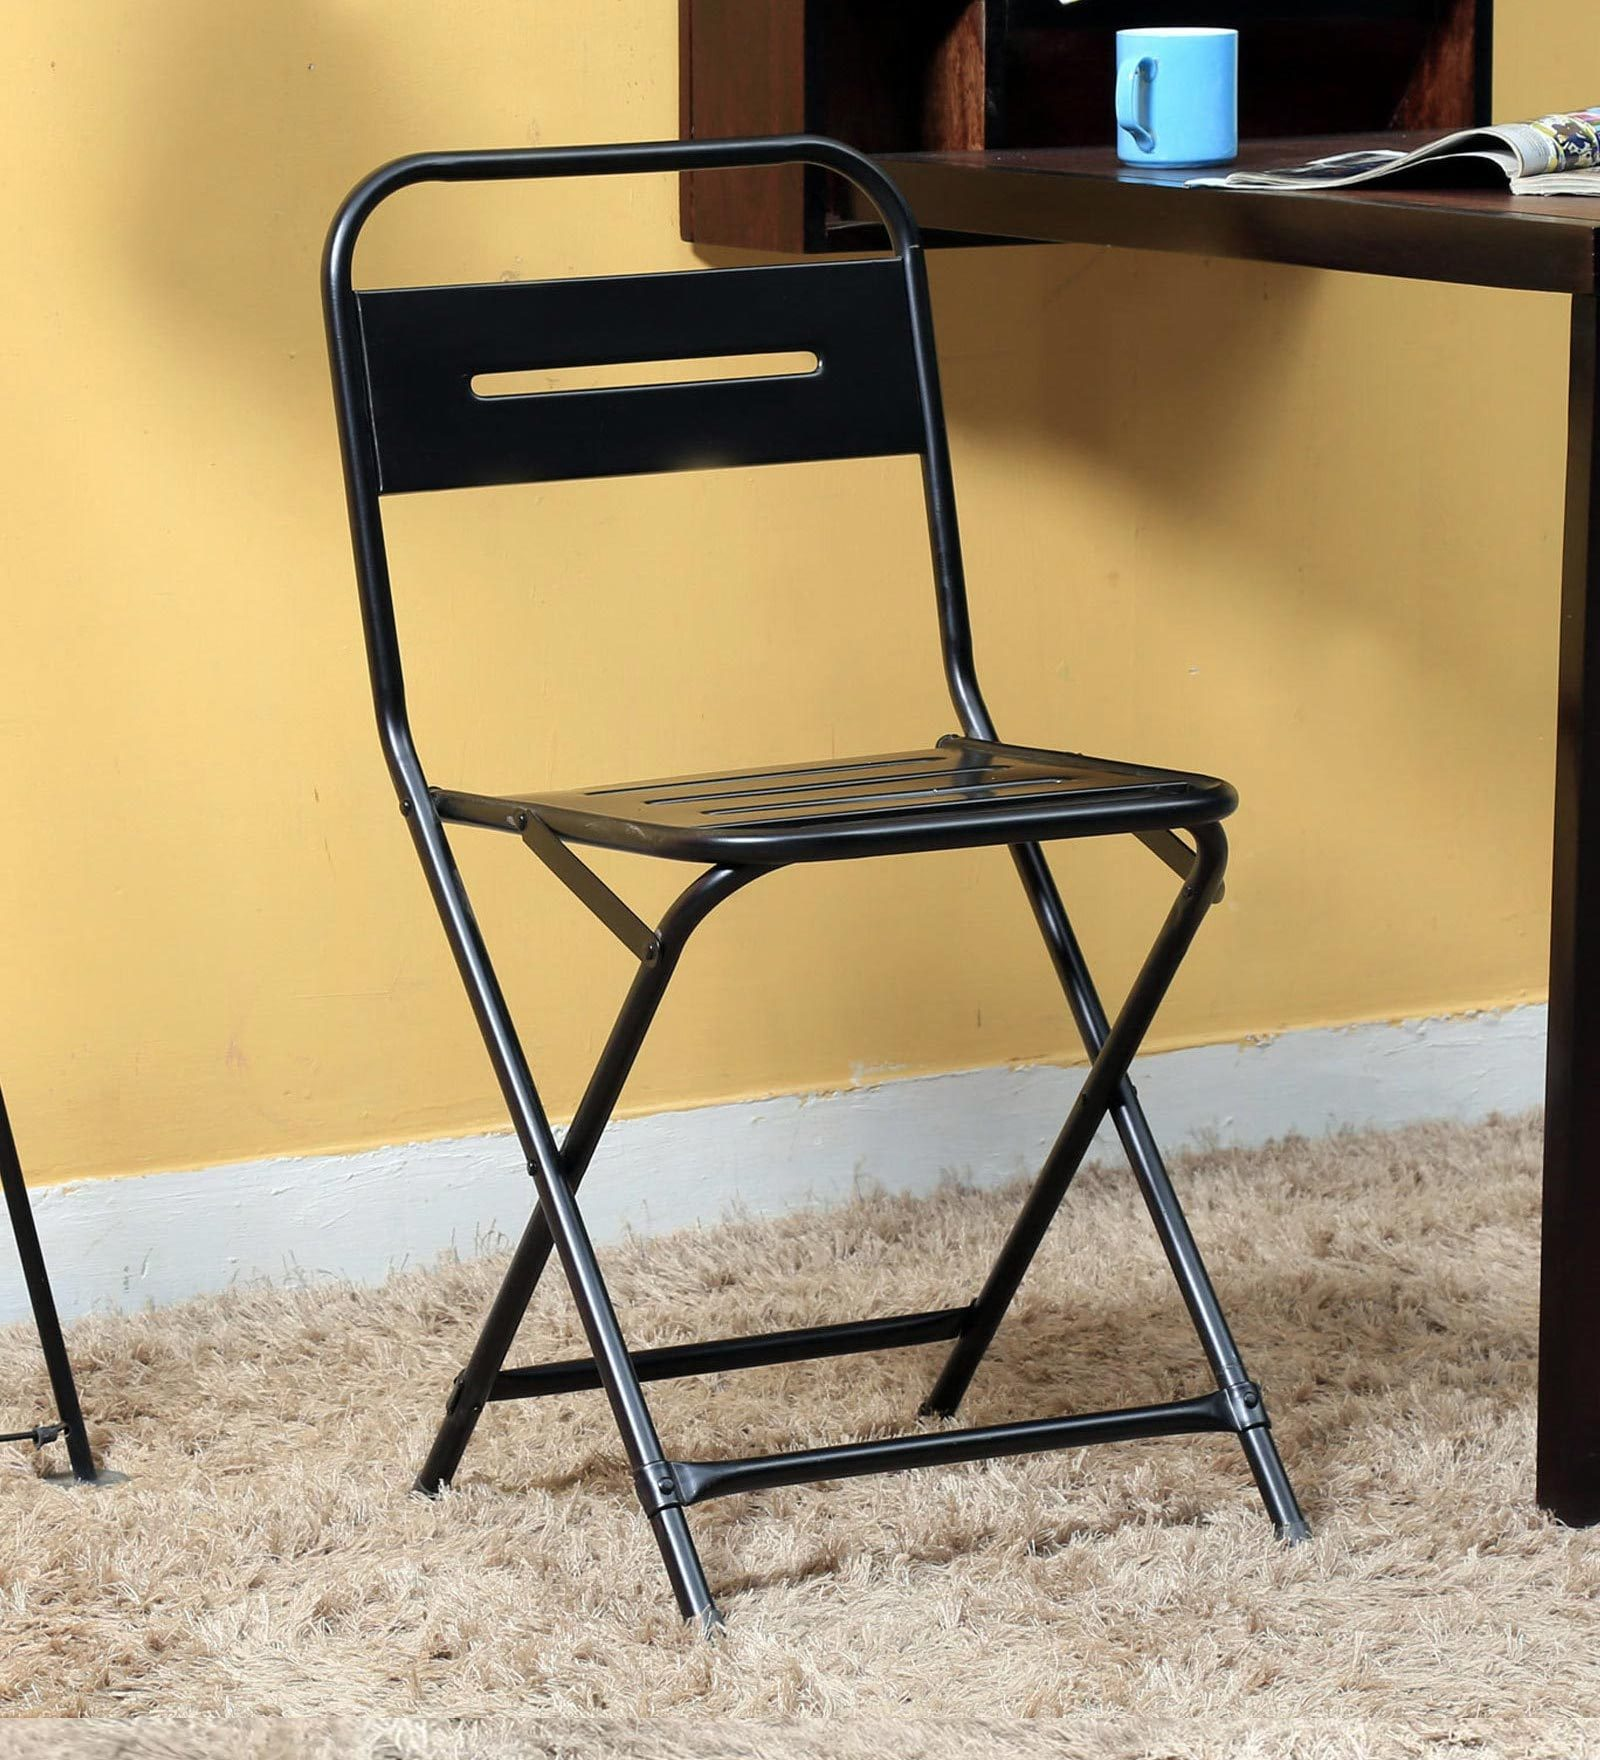Marandoo Grunge Black Outdoor Folding Chair by Bohemiana: (316, 132, 1329, 1630)
